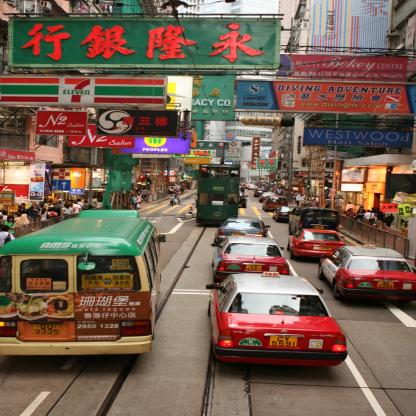Car: (200, 266, 349, 369), (325, 248, 416, 306), (214, 236, 287, 284), (282, 227, 349, 263), (213, 218, 277, 248), (276, 204, 298, 220), (265, 197, 288, 211), (255, 188, 272, 198), (258, 195, 281, 200), (244, 184, 261, 188)
